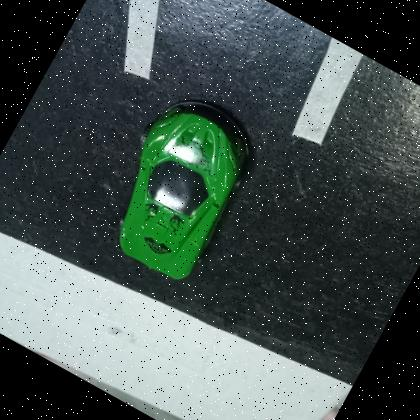Car: (84, 80, 276, 294)
